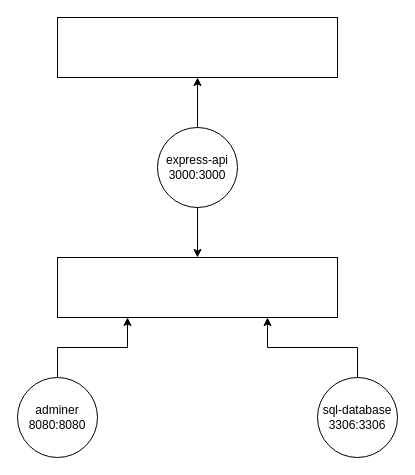
Some shapes in this 415 by 475 pixel diagram are drawn without their labels. Here are the shapes that lost their labels. From the top down, the centre of each, then its label:
At pixel 197 47: "API-Net".
At pixel 197 287: "SQL-Net".
